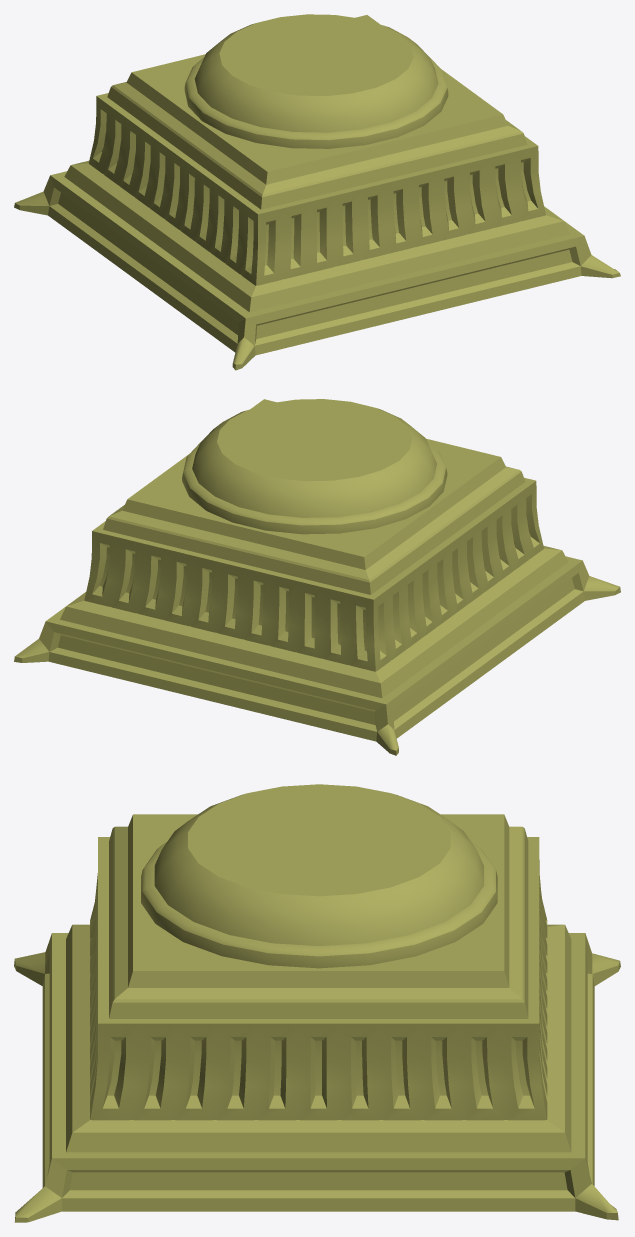
Rendered from SM_Colonne_Bas.fbx.
3 views of the same model, one above another, from view 1: azimuth 30°, elevation 25°; view 2: azimuth 150°, elevation 25°; view 3: azimuth 270°, elevation 25° (orthographic). The views are drawn at different scales.
Visible parts, largest first — view 1: SM_Colonne_Bas; view 2: SM_Colonne_Bas; view 3: SM_Colonne_Bas.
Boxes of the visible parts, box(x1,y1,x2,y2) form: SM_Colonne_Bas: box(14, 14, 620, 370); SM_Colonne_Bas: box(14, 399, 620, 755); SM_Colonne_Bas: box(14, 784, 620, 1222).
Bounding box in the file's own units: 238 × 110 × 238.
